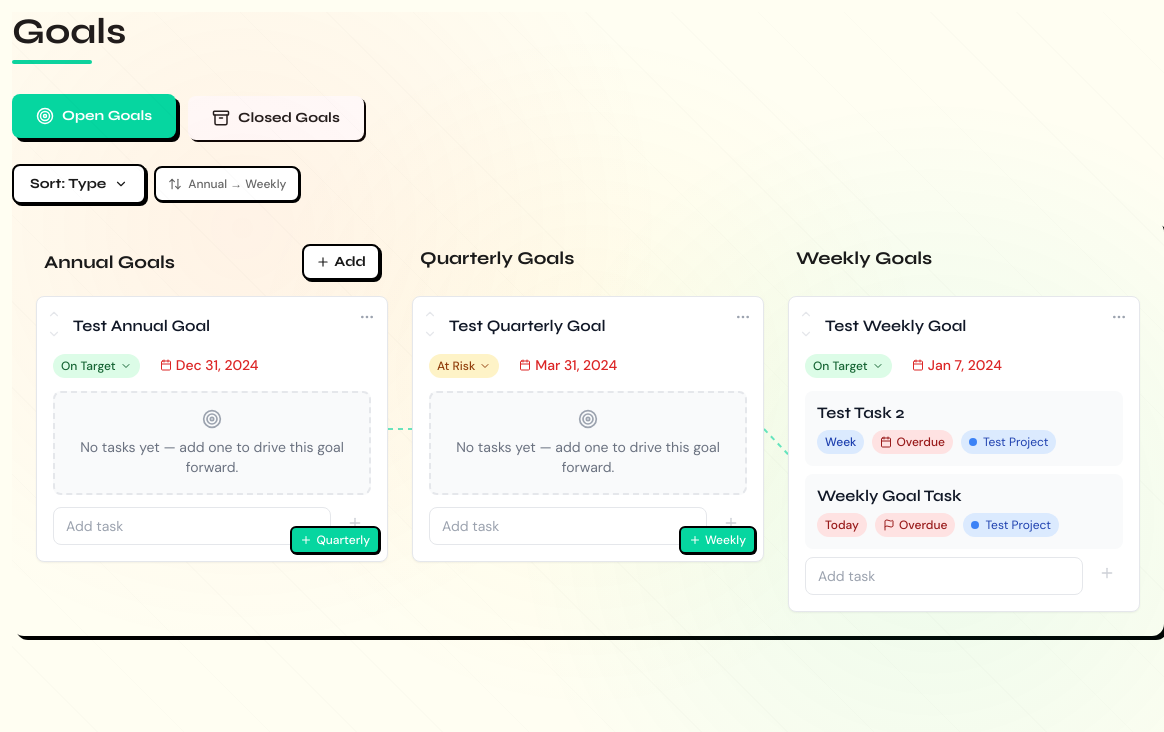
Scenario: GoalsPage › shows action menus for goals
The image size is (1164, 732).
Expected: the heading "Test Annual Goal" is shown, x1=73 y1=316 x2=210 y2=335
// Click an action menu to open it
Step 1. Click the button named "Goal actions" next to "Test Annual Goal" → click(367, 317), box x1=355 y1=305 x2=379 y2=329
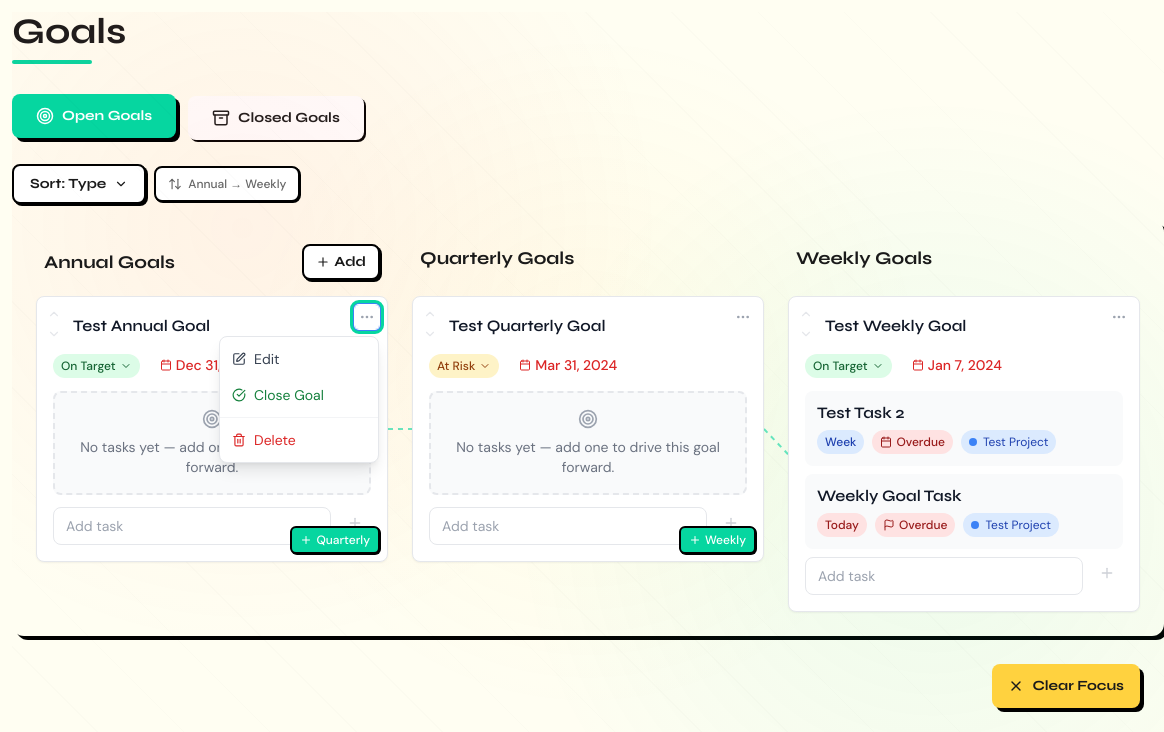
Expected: the menu item "Edit" is shown, x1=220 y1=341 x2=378 y2=377
Expected: the menu item "Close Goal" is shown, x1=220 y1=377 x2=378 y2=413
